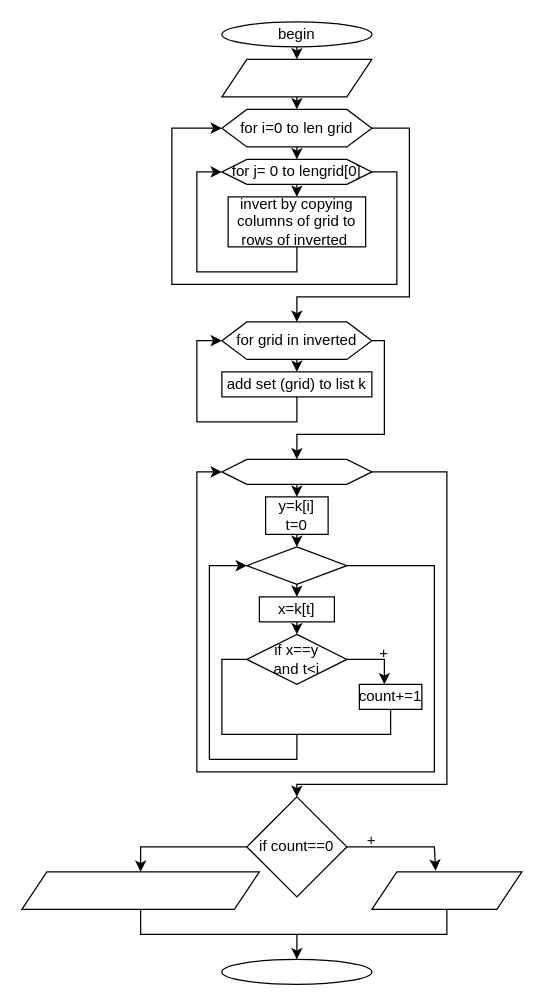
The diagram is 544 pixels wide and 1006 high, and some of its shapes have lost their labels. The box of each missing label's shape, as (x1, y1, x2, y2) in pixels:
end: (221, 958, 372, 984)
for i =0 to len(k): (221, 458, 372, 484)
input k: (221, 58, 372, 97)
no equivalent columns: (371, 871, 522, 909)
there is 'count' similar sets of columns: (21, 871, 259, 909)
while t<lenk: (246, 546, 347, 584)
